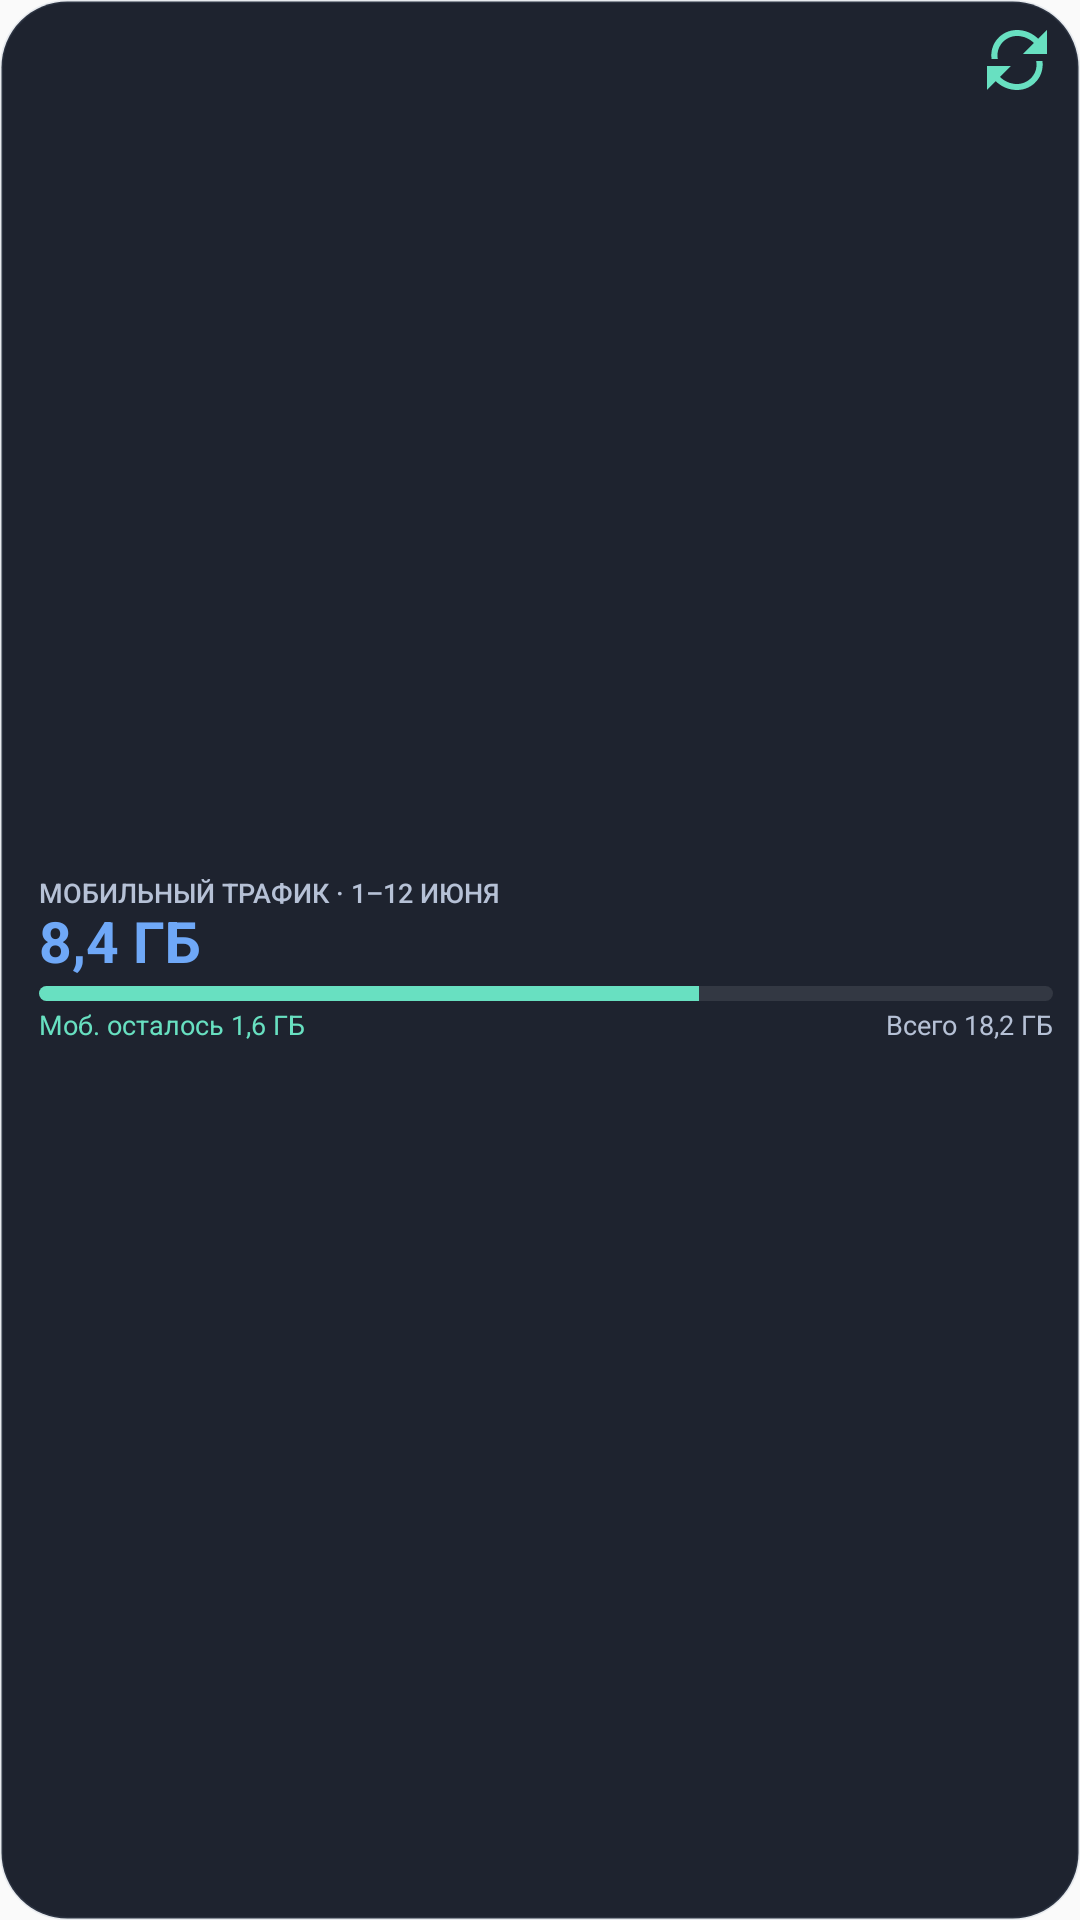

Where icons sit on this 1080px×1920px app screen, as [left=x1, top=y1, right=x2, bottom=y2]:
Обновить статистику: [left=987, top=30, right=1047, bottom=90]
